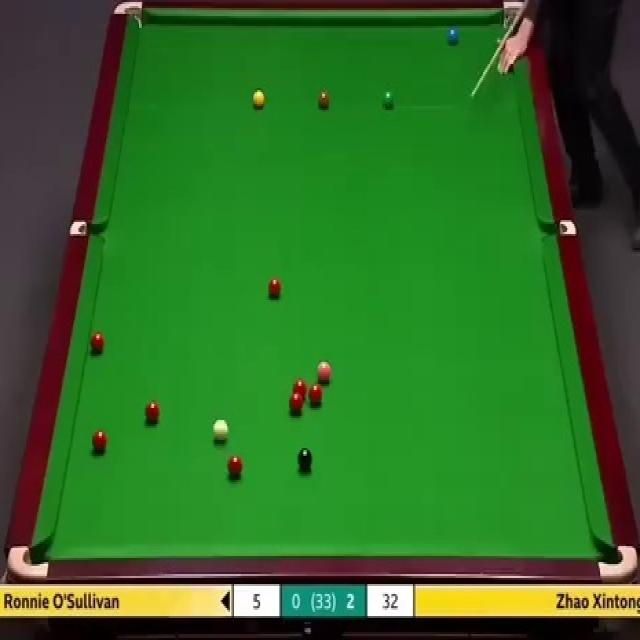pocket: (595, 537, 639, 581), (7, 538, 50, 580), (112, 0, 140, 32), (64, 218, 104, 236), (541, 220, 576, 240)
